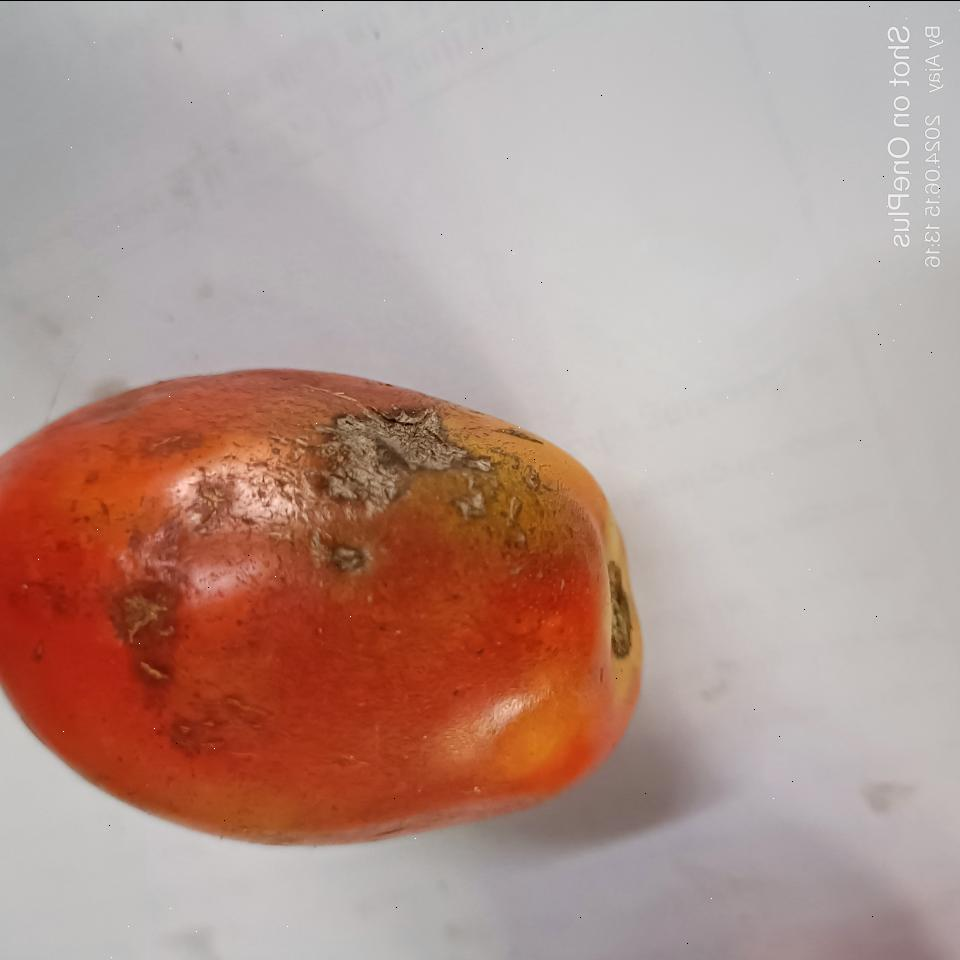Bacterial_Spot: (110, 468, 246, 690), (299, 387, 501, 502), (326, 542, 372, 574)
